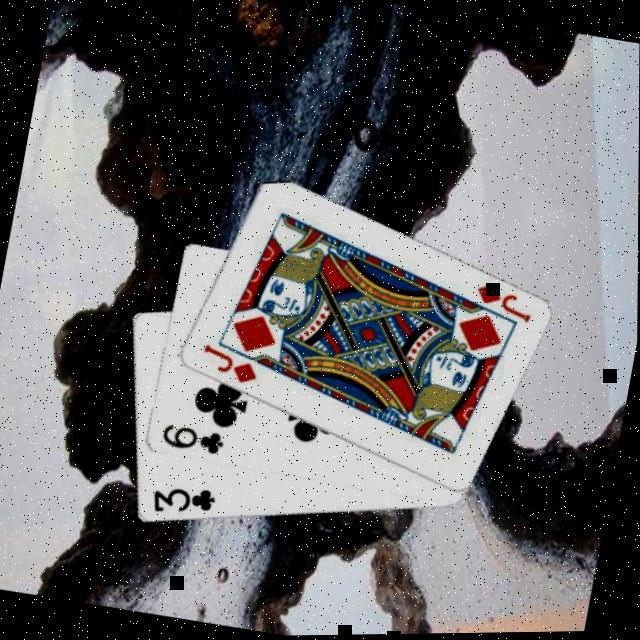3C: (146, 474, 218, 522)
6C: (156, 418, 227, 458)
JD: (466, 276, 536, 326), (194, 338, 262, 388)
